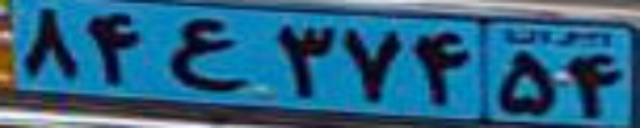3: (275, 23, 336, 98)
4: (409, 30, 477, 104), (87, 12, 141, 86), (568, 53, 623, 117)
5: (493, 50, 558, 113)
7: (340, 28, 398, 103)
8: (19, 6, 79, 77)
ain: (165, 18, 248, 91)
